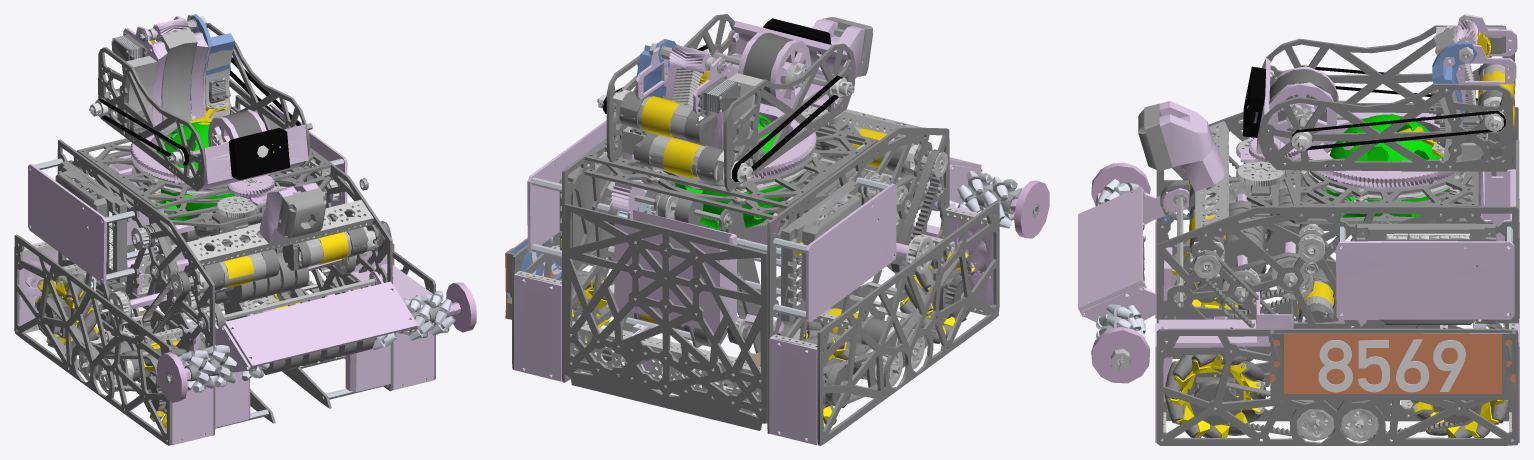
File: worlds-bot.glb
3 renders of one model, left to right at view 1: azimuth 30°, elevation 25°; view 2: azimuth 150°, elevation 25°; view 3: azimuth 270°, elevation 25°, orthographic. The views are drawn at different scales.
Parts seen in each view (by area): view 1: WorldsBot; view 2: WorldsBot; view 3: WorldsBot.
Boxes of the visible parts, box(x1,y1,x2,y2) form: WorldsBot: box(14, 14, 476, 445); WorldsBot: box(505, 14, 1049, 445); WorldsBot: box(1078, 14, 1519, 445).
Size of the model in its own units: 0.9242 by 0.8818 by 1.
